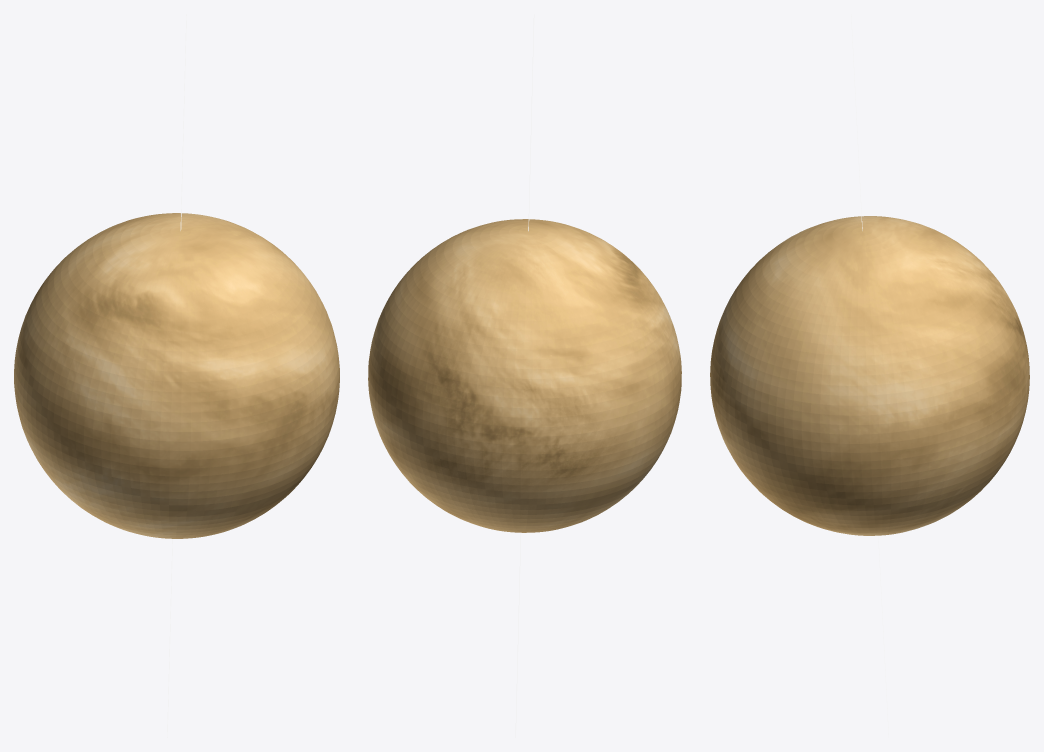
Rendered from venus.glb.
The picture shows the model from 3 angles, left to right: view 1: azimuth 30°, elevation 25°; view 2: azimuth 150°, elevation 25°; view 3: azimuth 270°, elevation 25°; orthographic projection. The views are drawn at different scales.
Visible parts, largest first — view 1: Sphere; view 2: Sphere; view 3: Sphere.
Part boxes in pixels (x1,y1,x2,y2): Sphere: (14, 213, 339, 538); Sphere: (368, 219, 681, 532); Sphere: (710, 216, 1029, 535).
Size of the model in its own units: 2 by 4.99 by 2.
2 materials, 1 textured.
